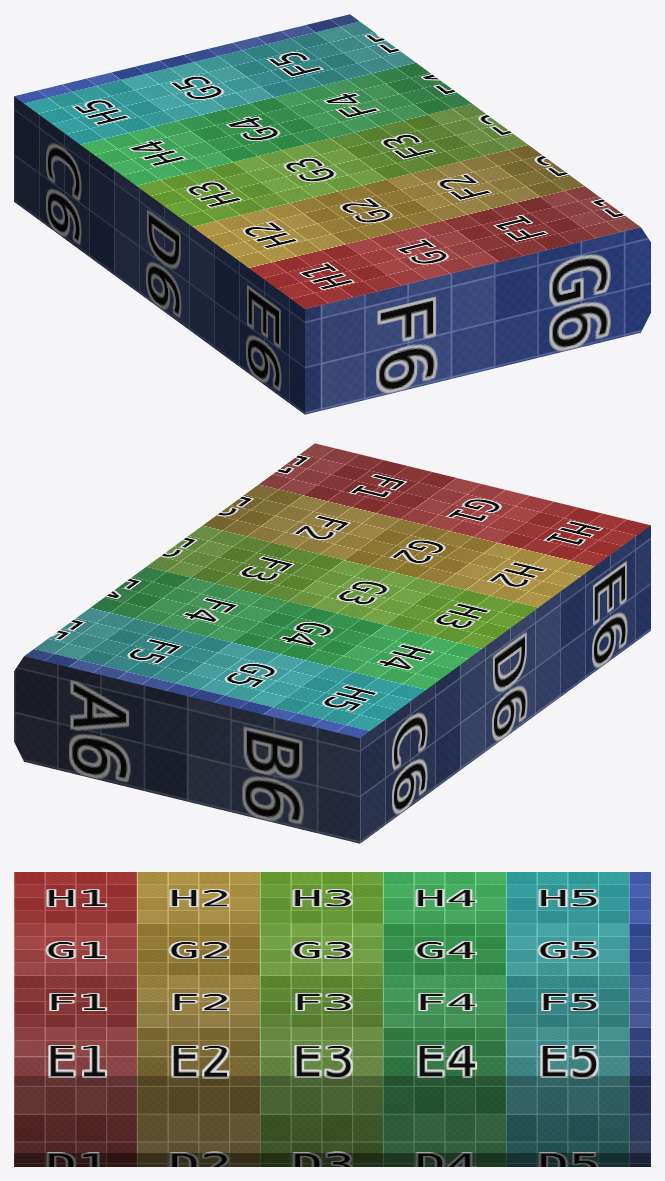
The model's file is testBook.glb.
3 views of the same model, one above another, from view 1: azimuth 30°, elevation 25°; view 2: azimuth 150°, elevation 25°; view 3: azimuth 270°, elevation 25° (orthographic). The views are drawn at different scales.
Visible parts, largest first — view 1: Cube; view 2: Cube; view 3: Cube.
Part boxes in pixels (x1,y1,x2,y2): Cube: (14, 14, 650, 414); Cube: (14, 443, 650, 843); Cube: (14, 872, 650, 1166).
Bounding box in the file's own units: 10.3 × 3 × 15.
Materials: 1 (1 with a texture image).
